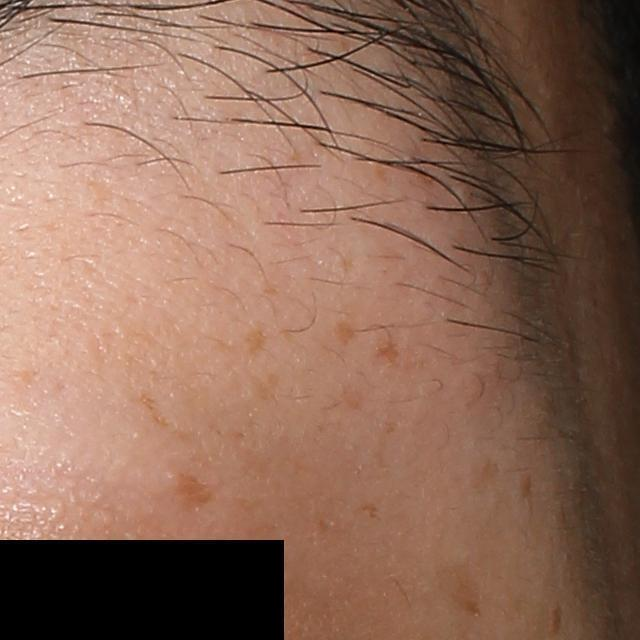melasma: (434, 549, 493, 625), (243, 327, 265, 360)
